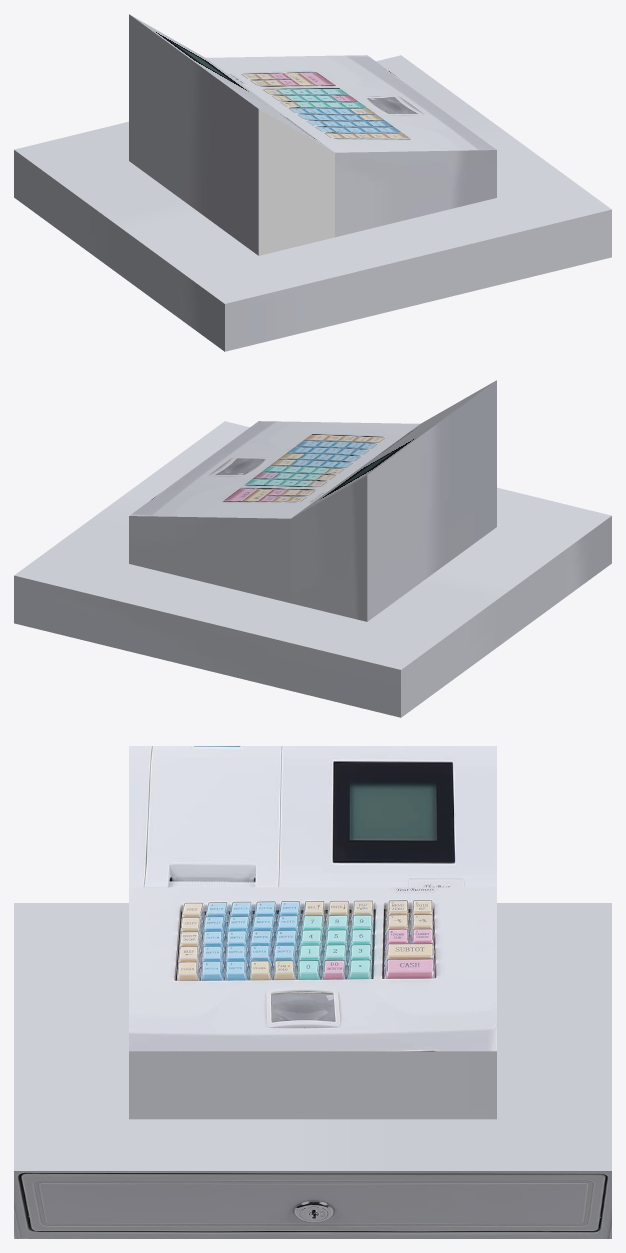
The model's file is Cash_register.glb.
3 renders of one model, top to bottom at view 1: azimuth 30°, elevation 25°; view 2: azimuth 150°, elevation 25°; view 3: azimuth 270°, elevation 25°, orthographic. The views are drawn at different scales.
Visible parts, largest first — view 1: Cube, Cube.001; view 2: Cube, Cube.001; view 3: Cube.001, Cube.
Boxes of the visible parts, box(x1,y1,x2,y2) form: Cube: box(14, 55, 611, 351); Cube.001: box(129, 14, 496, 255); Cube: box(14, 421, 611, 717); Cube.001: box(129, 380, 496, 621); Cube.001: box(129, 746, 496, 1119); Cube: box(14, 903, 611, 1238).
Size of the model in its own units: 16.94 by 8.15 by 15.97.
Materials: 1 (1 with a texture image).
